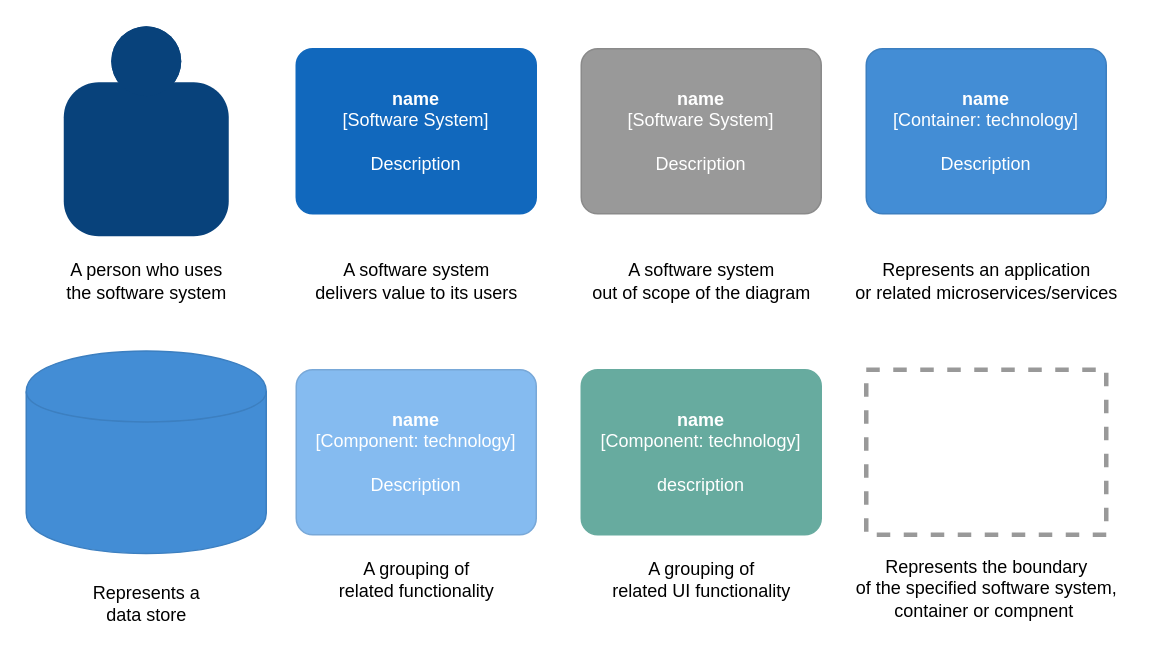
Image size: 1155x651. Some labels were removed from this diagram. Each missing label, with the centre of its shape:
"Database [Container: Technology] Description" goes at (x=145, y=452).
"name [Person] Description" goes at (x=145, y=131).
"name [type]" goes at (x=985, y=451).
